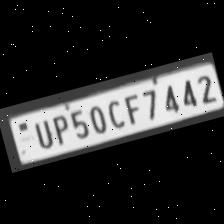0: (83, 100, 109, 136)
2: (191, 70, 217, 105)
4: (154, 79, 182, 115), (174, 74, 199, 110)
5: (64, 104, 90, 140)
7: (136, 84, 162, 122)
C: (101, 95, 127, 131)
F: (118, 91, 142, 125)
P: (47, 110, 72, 146)
U: (27, 116, 54, 150)
